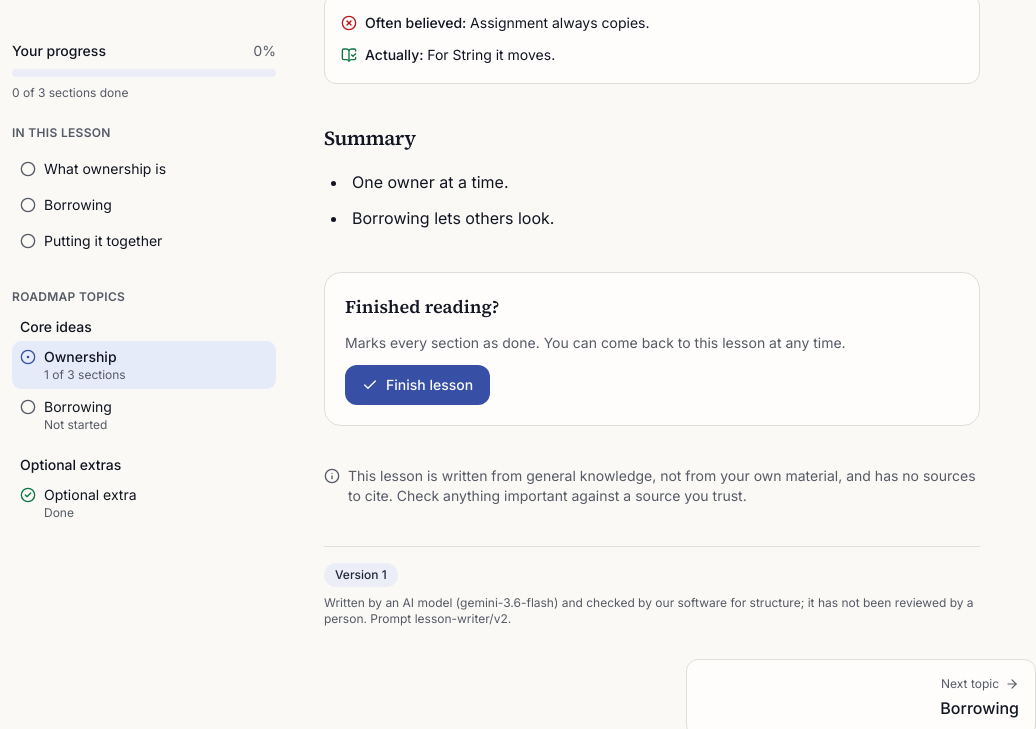
Test: tracking progress › treats an action that throws like a failed save
(page scrolled)
Click the button "Finish lesson" at (418, 385), box [345,365,490,405]
(page scrolled)
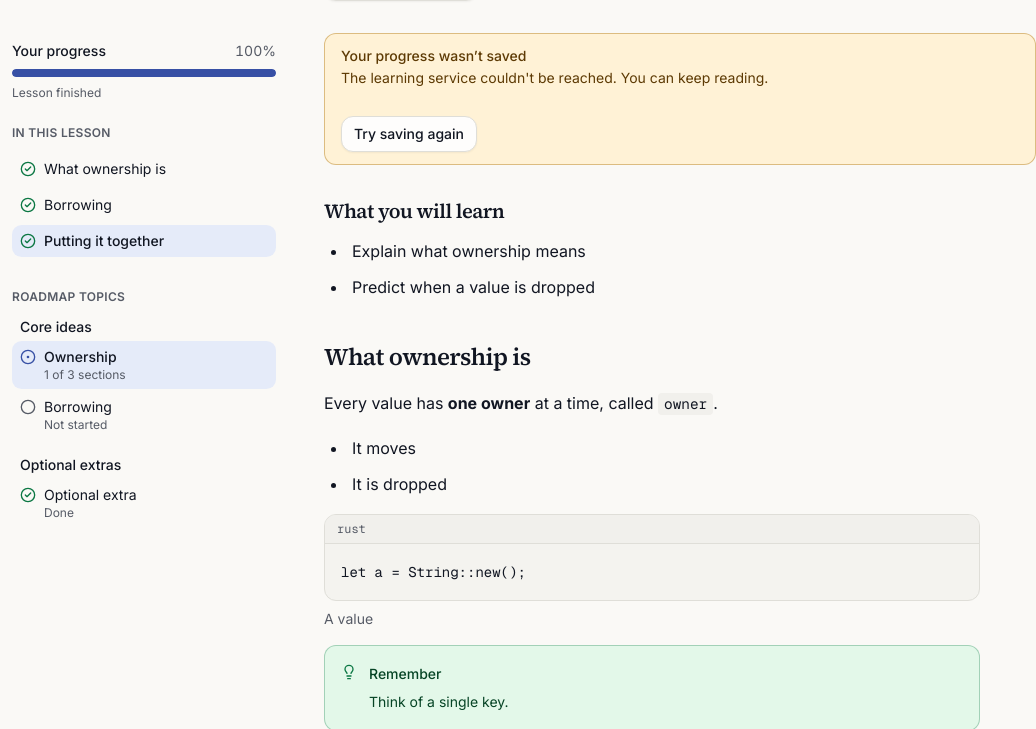
Expected: the text "Your progress wasn’t saved" is shown, [341,47,526,64]
